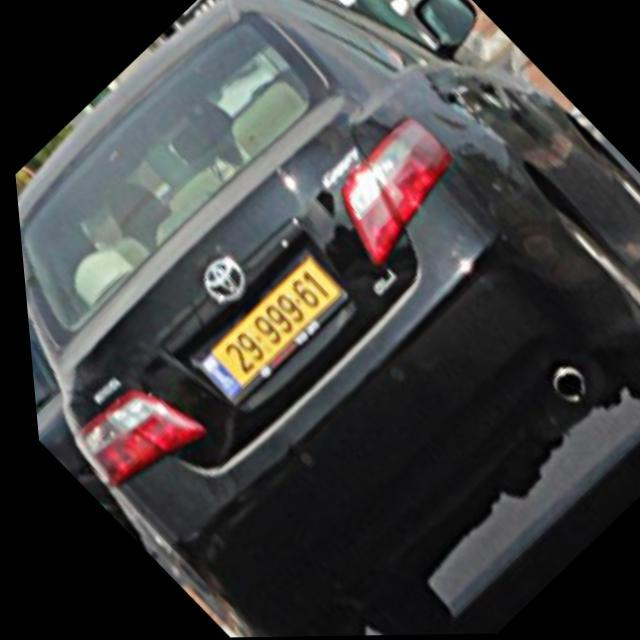license_plate: (175, 250, 358, 412)
